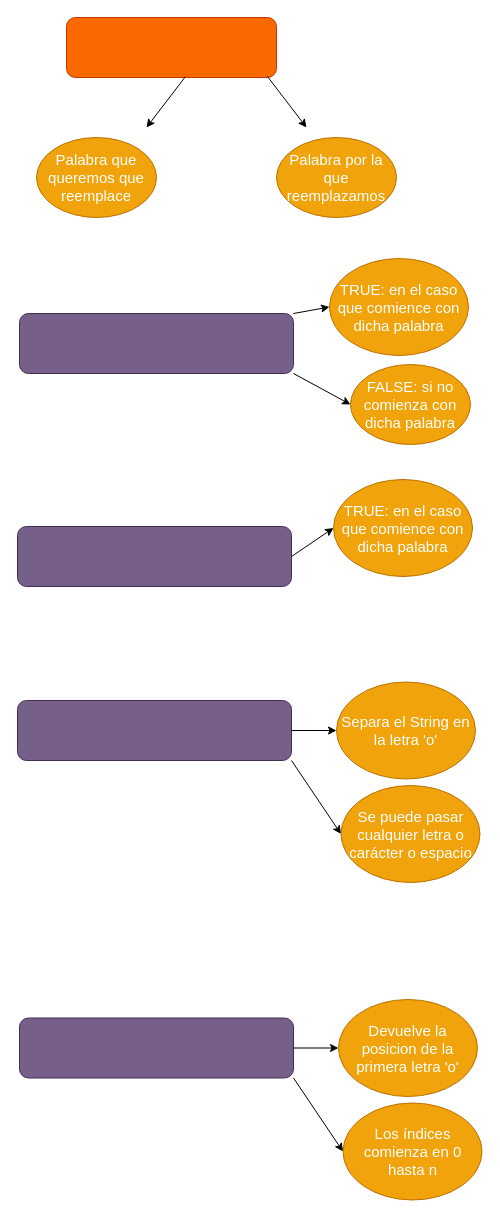
The diagram is 500 pixels wide and 1218 high, and some of its shapes have lost their labels. Each missing label, with the centre of its shape:
"myStr.find('o')" goes at pixel 156 1047.
"myStr.replace(' Hello ', ' Bye ')" goes at pixel 171 47.
"myStr.split('o')" goes at pixel 154 730.
"myStr.split()" goes at pixel 154 556.
"myStr.startswith(' Hola' )" goes at pixel 156 343.
